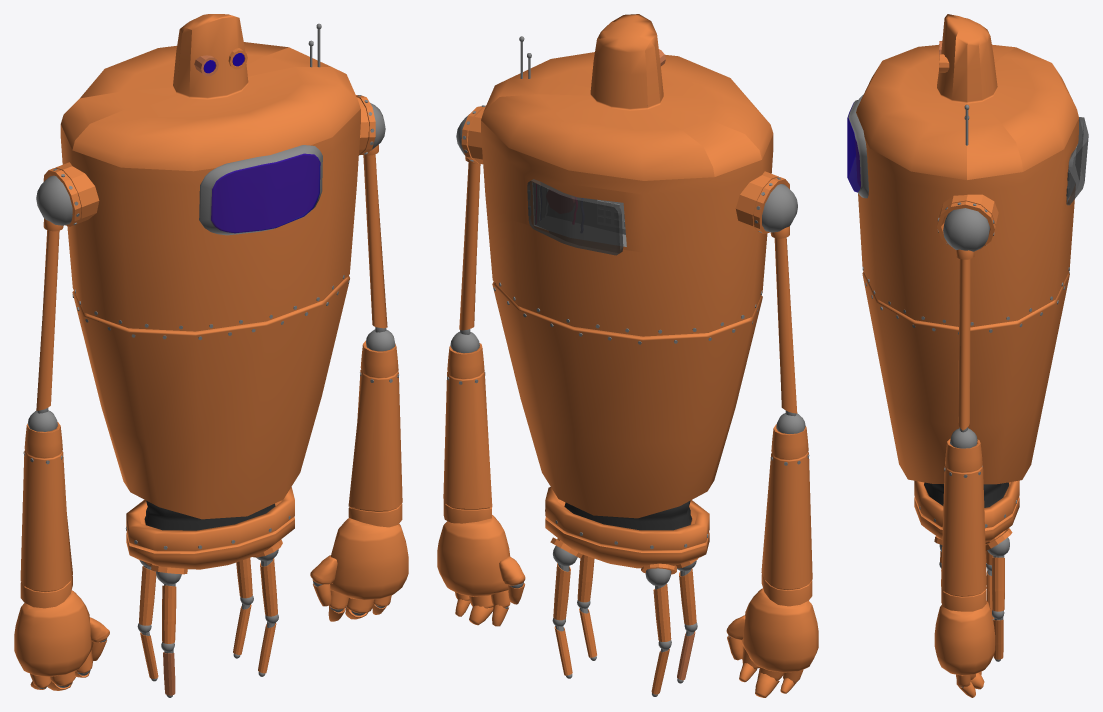
File: Milestone 1 control box .fbx
3 renders of one model, left to right at view 1: azimuth 30°, elevation 25°; view 2: azimuth 150°, elevation 25°; view 3: azimuth 270°, elevation 25°, orthographic. The views are drawn at different scales.
Visible parts, largest first — view 1: pCylinder1, pCube1, pasted__pCylinder7, pCylinder7, pCylinder2, pasted__pCylinder8, pCylinder8, pCylinder5, pasted__pCylinder5, pasted__pasted__pCylinder12 (×2), pCylinder4, pSphere1 (+2 smaller); view 2: pCylinder1, pCylinder7, pasted__pCylinder7, pCylinder2, pCylinder8, pCube2, pasted__pCylinder8, pCylinder5, pasted__pCylinder5, pCube5, pCylinder4, pasted__pasted__pCylinder12 (×2) (+4 smaller); view 3: pCylinder1, pasted__pCylinder7, pasted__pCylinder8, pCylinder2, pasted__pCylinder5, pasted__pSphere1, pCube1, pasted__pCylinder4, pCube2, pasted__pCylinder12, pasted__pasted__pSphere1.
Part boxes in pixels (box(x1,y1,x2,y2)): pCylinder1: box(60, 14, 360, 530); pCube1: box(199, 145, 322, 235); pasted__pCylinder7: box(348, 340, 402, 527); pCylinder7: box(20, 422, 72, 608); pCylinder2: box(126, 487, 294, 569); pasted__pCylinder8: box(330, 518, 408, 600); pCylinder8: box(14, 590, 93, 676); pCylinder5: box(36, 218, 63, 410); pasted__pCylinder5: box(363, 144, 387, 328); pasted__pasted__pCylinder12 (×2): box(139, 565, 176, 643); pCylinder4: box(43, 162, 99, 226); pSphere1: box(36, 175, 72, 225); pCylinder1: box(481, 14, 773, 530); pCylinder7: box(761, 424, 812, 606); pasted__pCylinder7: box(443, 343, 492, 523); pCylinder2: box(545, 487, 709, 568); pCylinder8: box(741, 588, 818, 672); pCube2: box(527, 179, 623, 255); pasted__pCylinder8: box(437, 515, 510, 596); pCylinder5: box(770, 226, 797, 413); pasted__pCylinder5: box(459, 157, 480, 330); pCube5: box(532, 182, 626, 246); pCylinder4: box(735, 171, 789, 233); pasted__pasted__pCylinder12 (×2): box(653, 568, 696, 641); pCylinder1: box(856, 14, 1078, 507); pasted__pCylinder7: box(941, 438, 986, 611); pasted__pCylinder8: box(934, 601, 995, 675); pCylinder2: box(914, 480, 1019, 542); pasted__pCylinder5: box(956, 249, 974, 430); pasted__pSphere1: box(943, 208, 989, 251); pCube1: box(847, 94, 868, 198); pasted__pCylinder4: box(937, 194, 998, 249); pCube2: box(1066, 117, 1088, 205); pasted__pCylinder12: box(992, 557, 1004, 611); pasted__pasted__pSphere1: box(950, 428, 977, 448).
Size of the model in its own units: 12.51 by 20.79 by 7.29.
